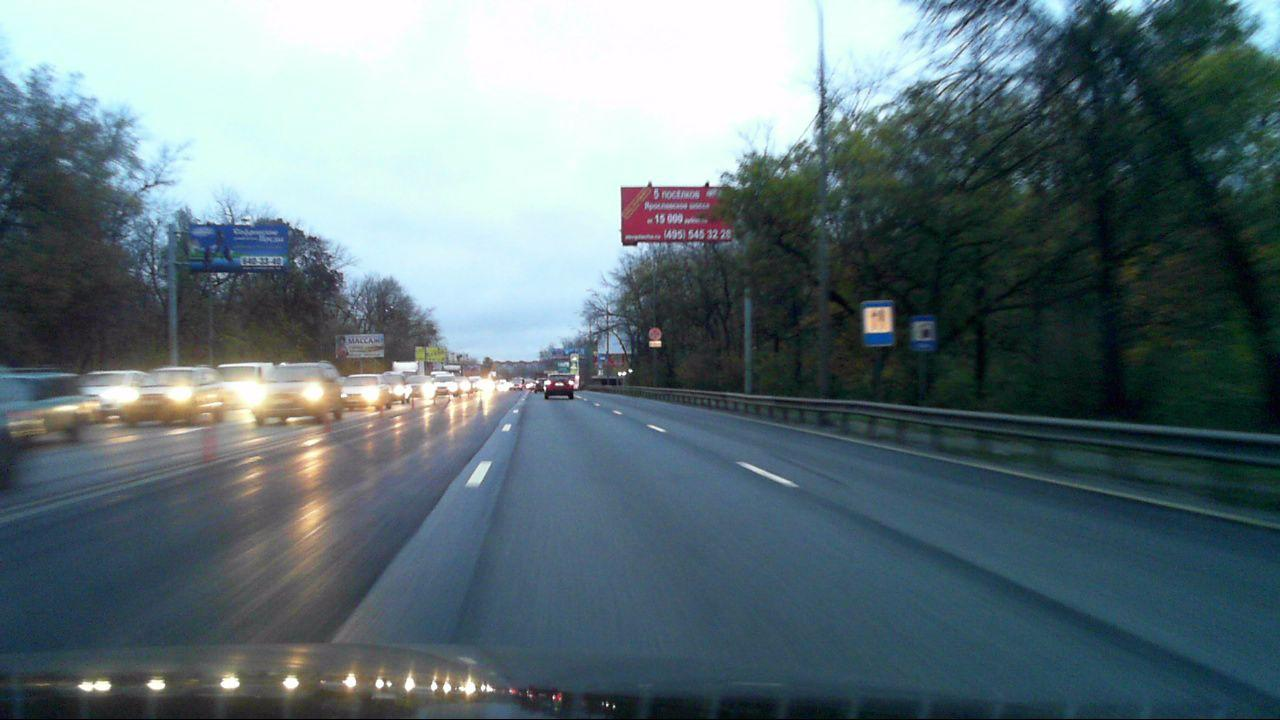3_27: (649, 326, 664, 340)
7_3: (911, 314, 937, 351)
7_7: (861, 300, 894, 346)
8_2_1: (649, 341, 662, 348)
